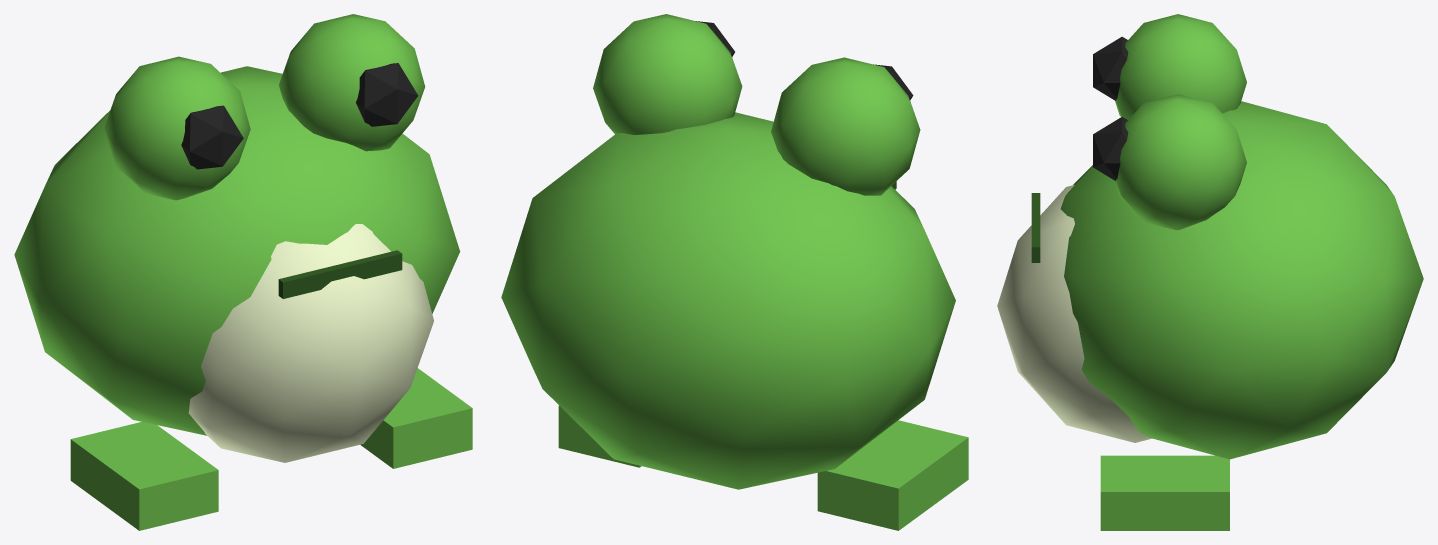
Rendered from frog.glb.
3 renders of one model, left to right at view 1: azimuth 30°, elevation 25°; view 2: azimuth 150°, elevation 25°; view 3: azimuth 270°, elevation 25°, orthographic. The views are drawn at different scales.
Parts seen in each view (by area): view 1: Frog; view 2: Frog; view 3: Frog.
Boxes of the visible parts, x1,y1,x2,y2 form: Frog: [14, 14, 472, 530]; Frog: [501, 14, 968, 530]; Frog: [997, 14, 1423, 530].
Size of the model in its own units: 1 by 1.01 by 0.99.
